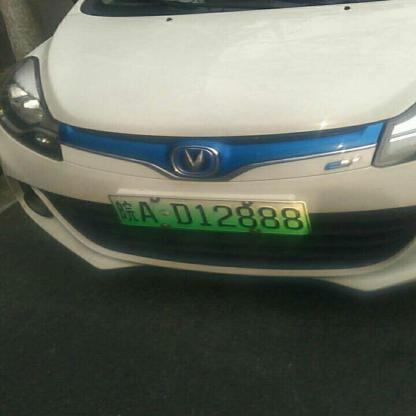lp: (106, 195, 310, 233)
